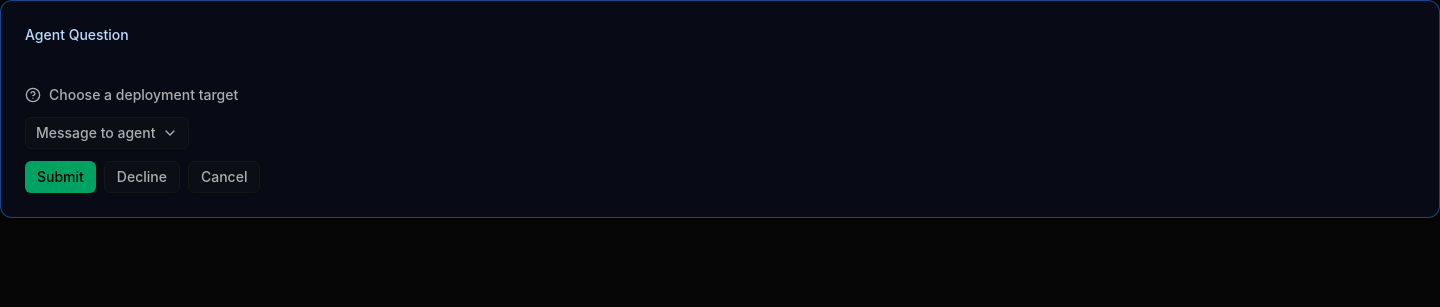
Test: ActivityElicitation › hides the feedback textarea until the message toggle is opened
Click the button "Message to agent": (107, 133) [25,117,188,149]
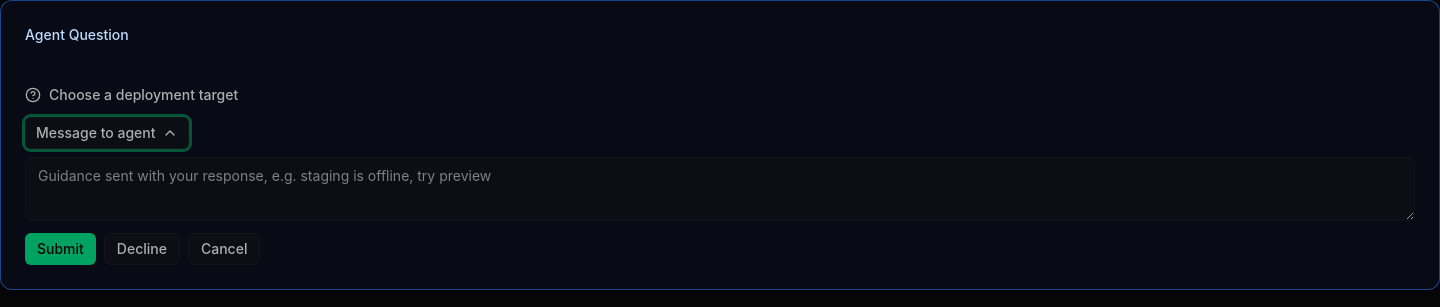
Result: the text box named "Message to agent" is shown at [25,157,1415,221]
